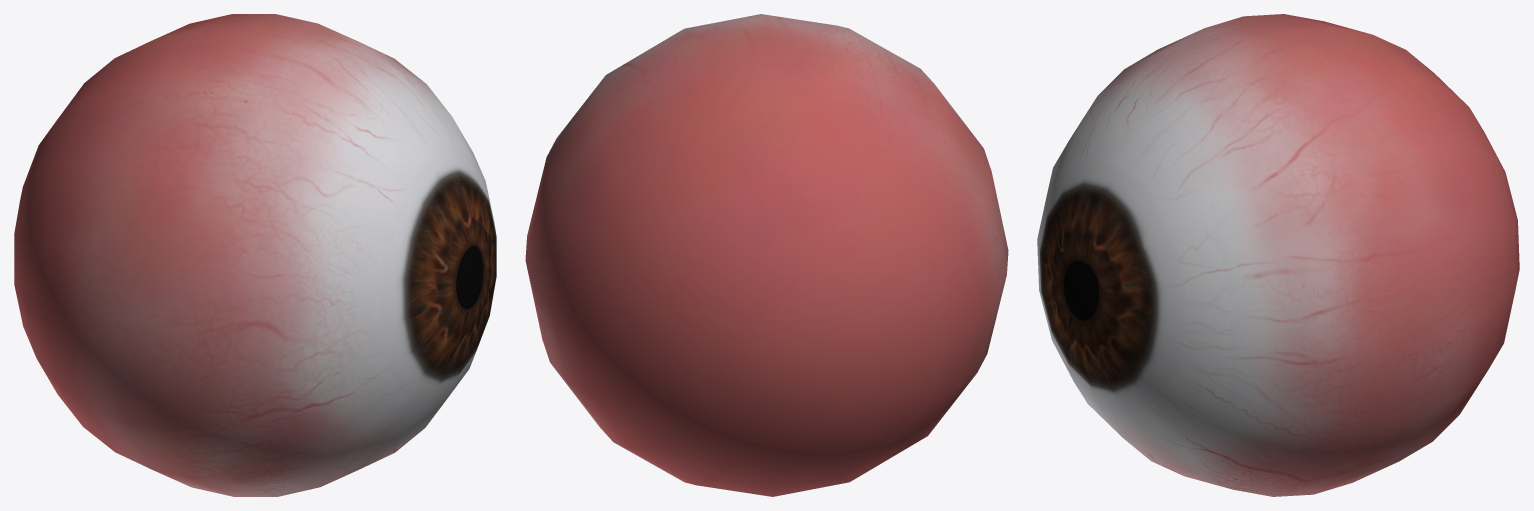
File: Eye L.fbx
The picture shows the model from 3 angles, left to right: view 1: azimuth 30°, elevation 25°; view 2: azimuth 150°, elevation 25°; view 3: azimuth 270°, elevation 25°; orthographic projection.
Visible parts, largest first — view 1: Eye L, Eye L low; view 2: Eye L; view 3: Eye L, Eye L low.
Boxes of the visible parts, x1=… form: Eye L: x1=14, y1=14, x2=496, y2=496; Eye L low: x1=195, y1=52, x2=494, y2=435; Eye L: x1=525, y1=14, x2=1008, y2=496; Eye L: x1=1037, y1=14, x2=1519, y2=496; Eye L low: x1=1040, y1=34, x2=1514, y2=446.
Bounding box in the file's own units: 3.74 × 3.73 × 3.74.
1 material, 1 textured.
